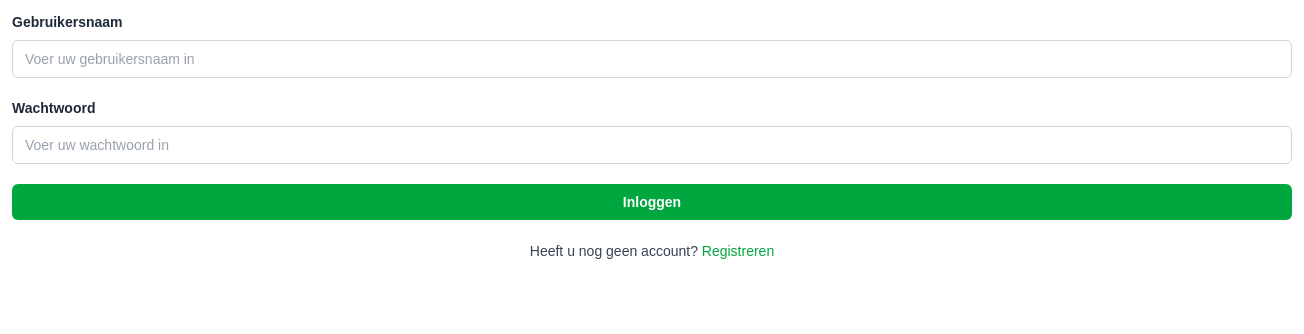
Test case: LoginForm › does not store credentials in localStorage on failed login (401)
The width and height of the screenshot is (1304, 334).
Step 1. Type "user" into the field with test id "username-input" → [652, 59], box x1=12 y1=40 x2=1292 y2=78
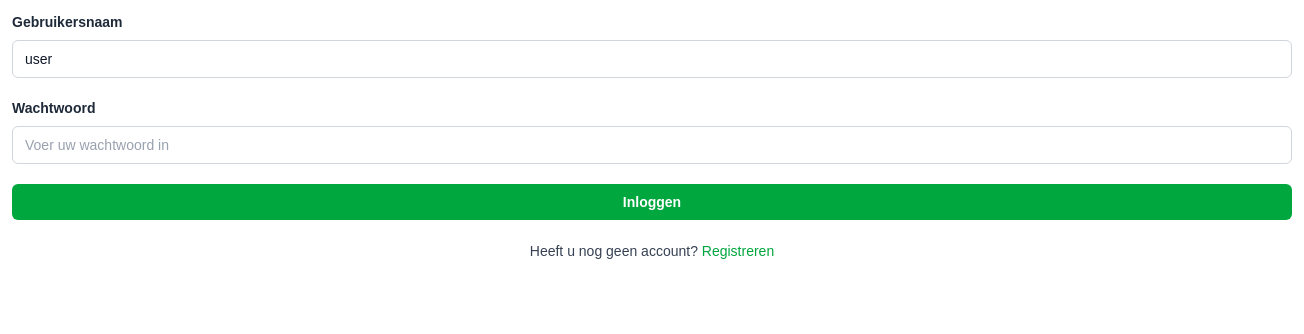
Step 2. Type "wrong" into the password field with test id "password-input" → [652, 145], box x1=12 y1=126 x2=1292 y2=164
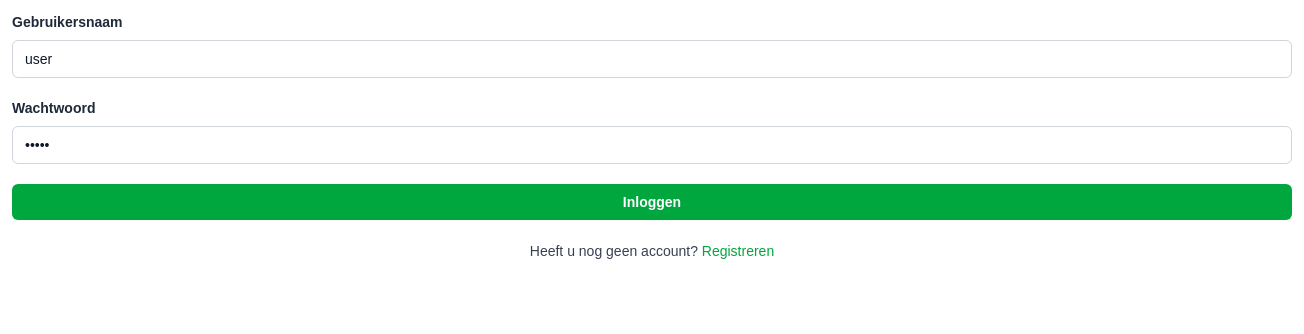
Step 3. Click the button with test id "login-button" → [652, 202], box x1=12 y1=184 x2=1292 y2=220
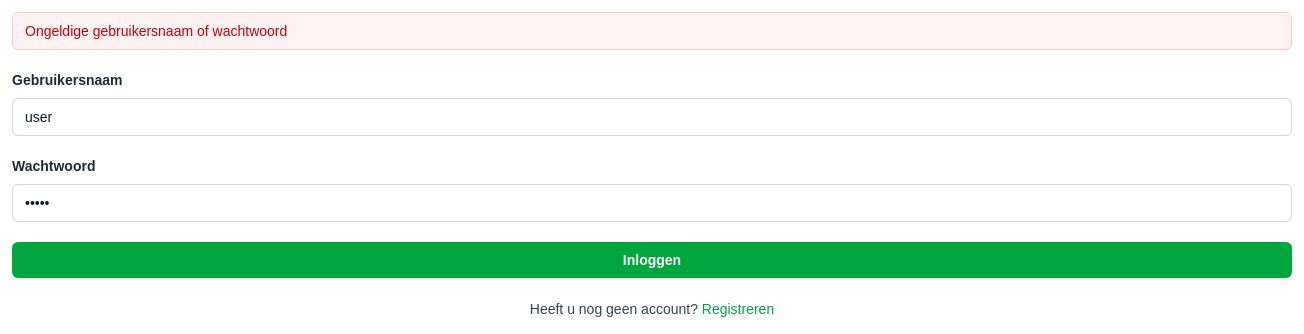
Now the message "Ongeldige gebruikersnaam of wachtwoord" is shown, box x1=12 y1=12 x2=1292 y2=50
